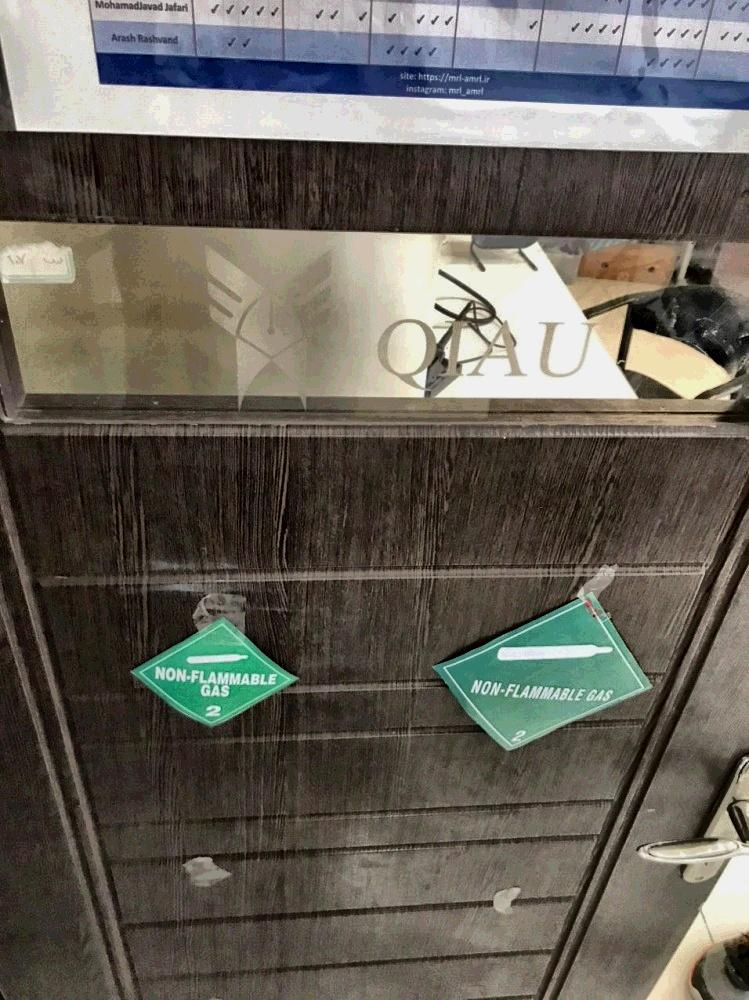non-flammable-gas: (437, 594, 650, 753), (137, 619, 297, 735)
